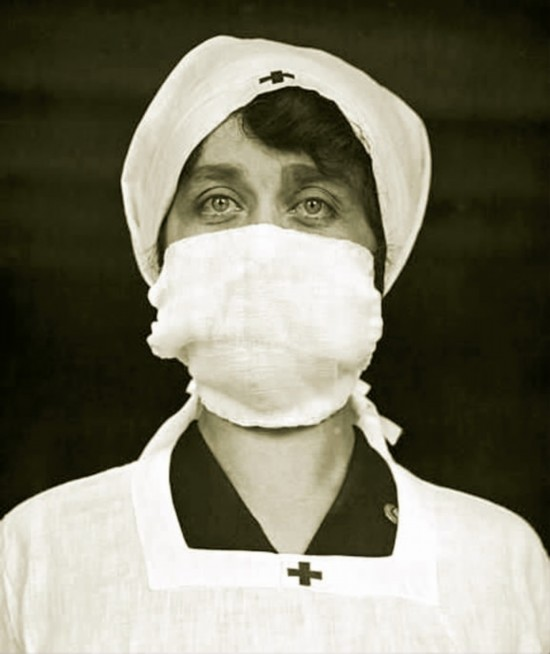face_mask: (169, 98, 372, 392)
